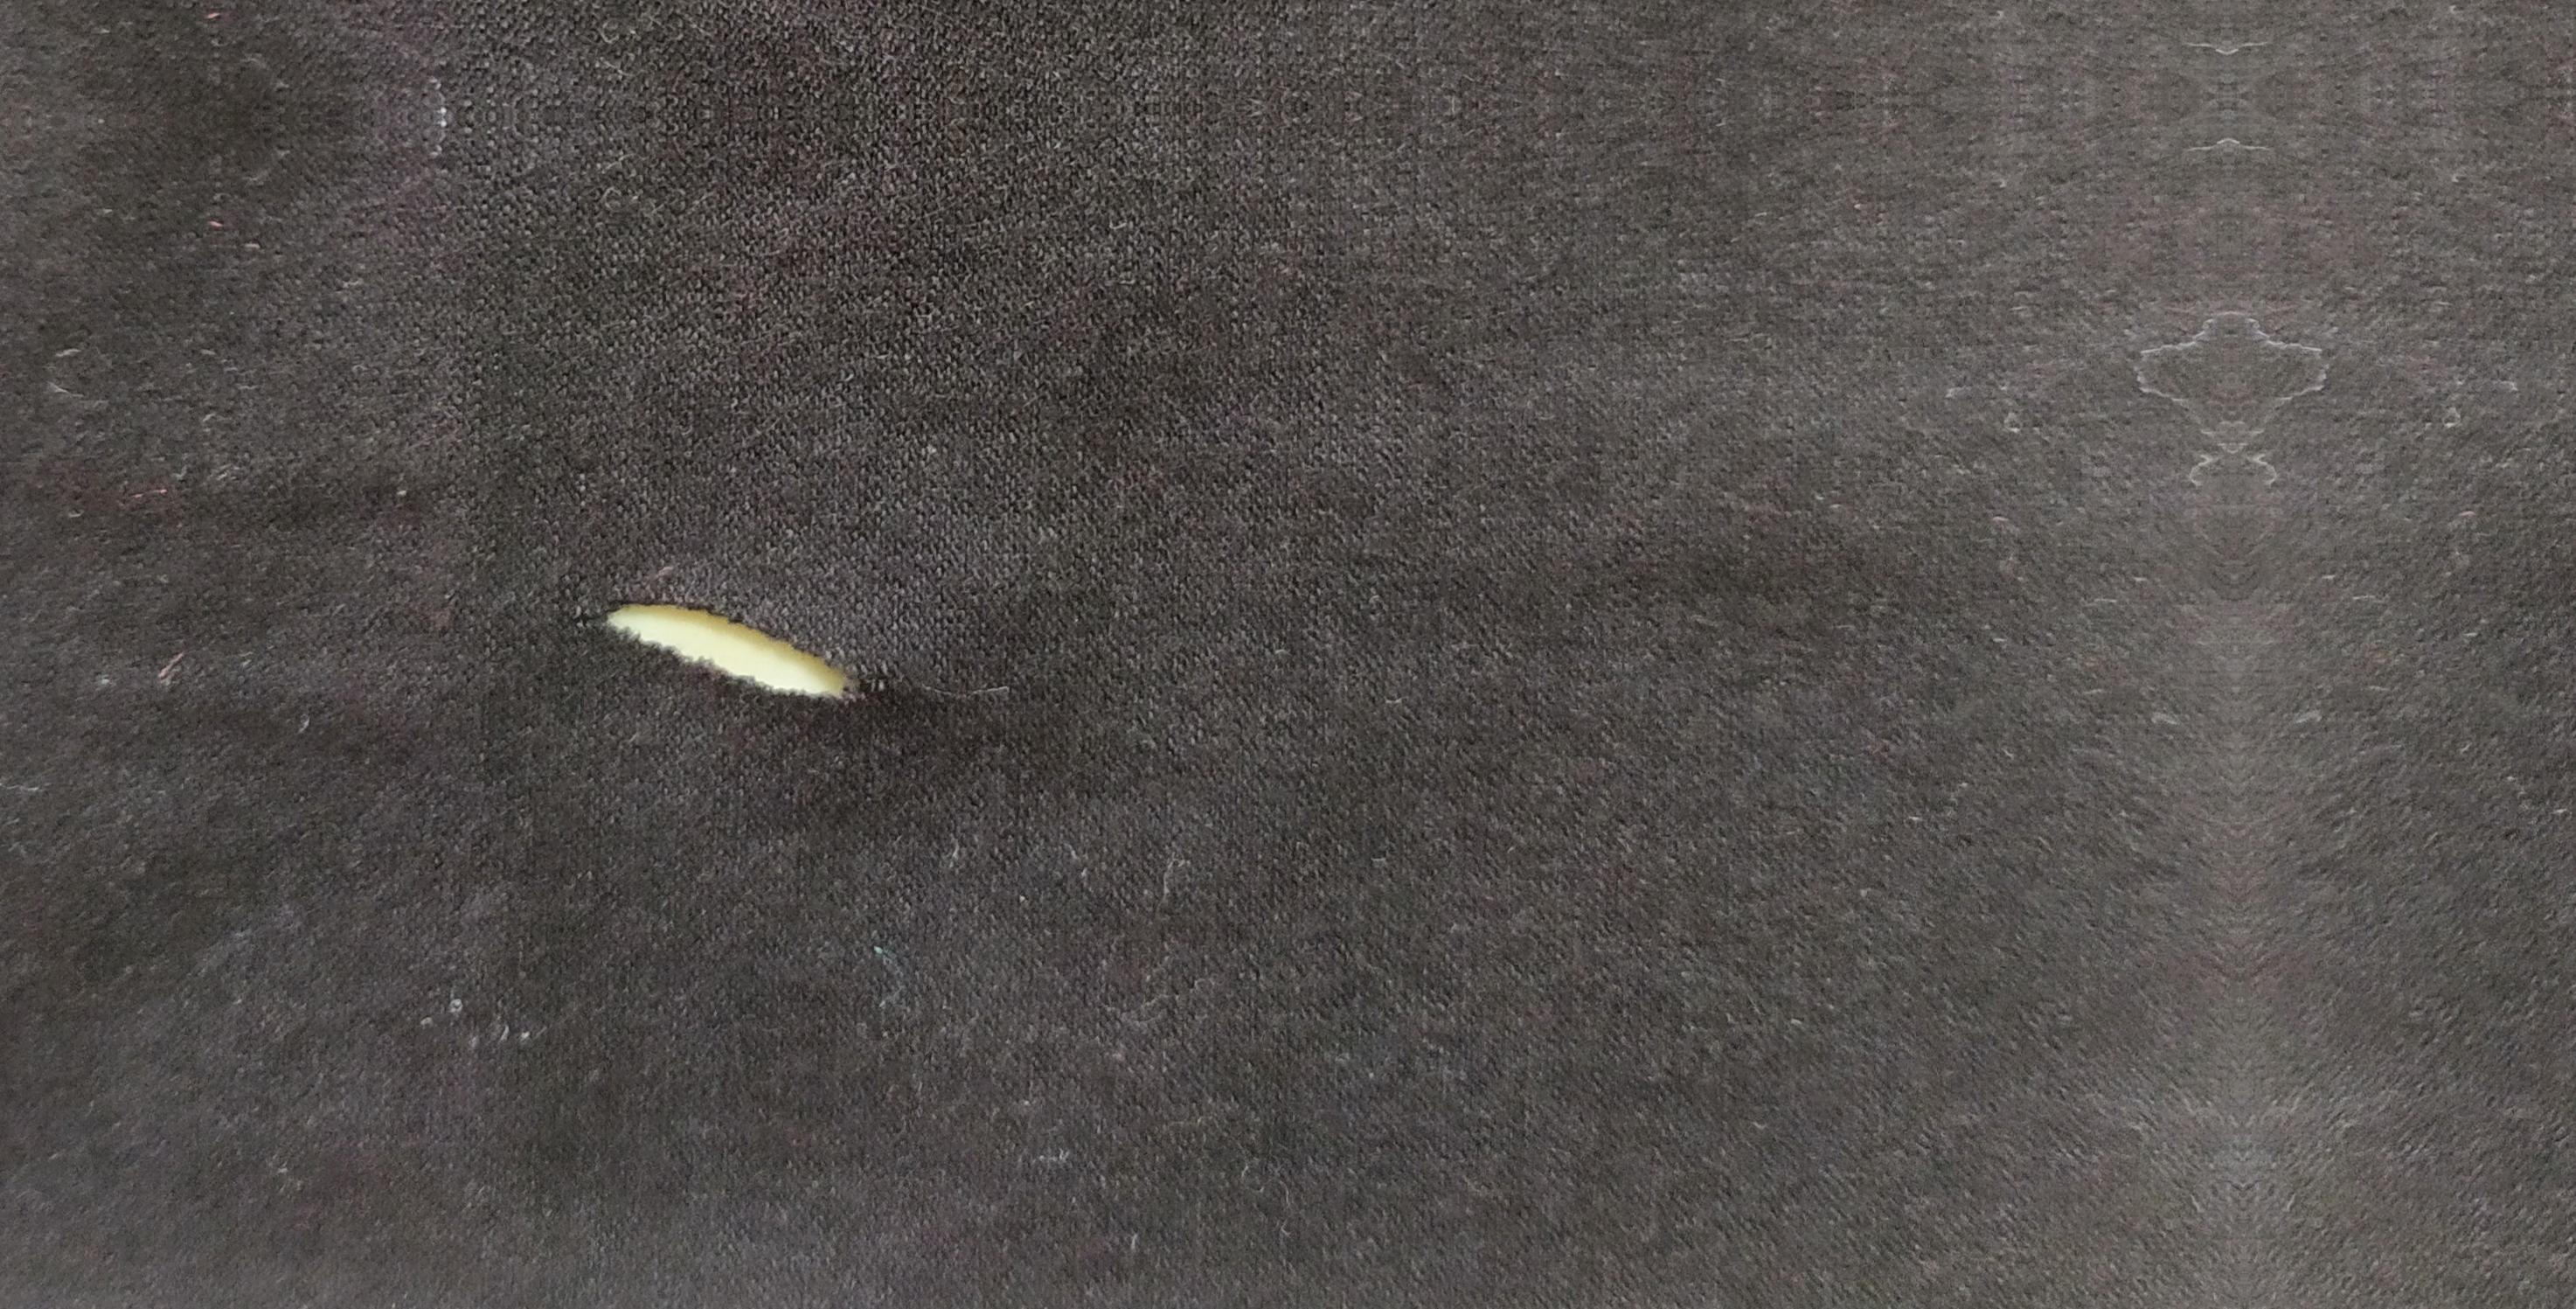hole: (584, 581, 889, 728)
